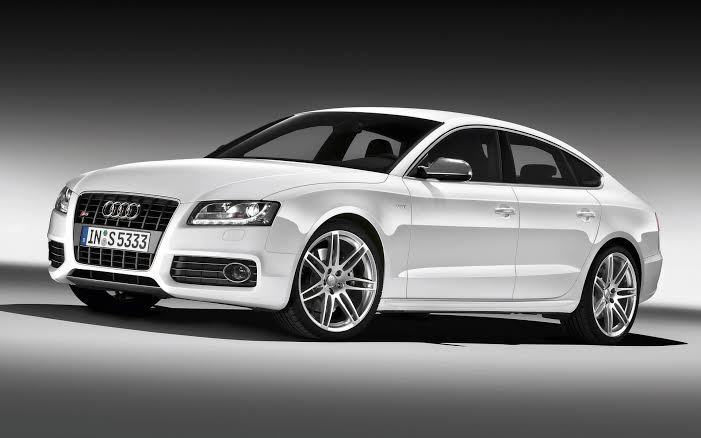audi: (28, 93, 667, 354)
